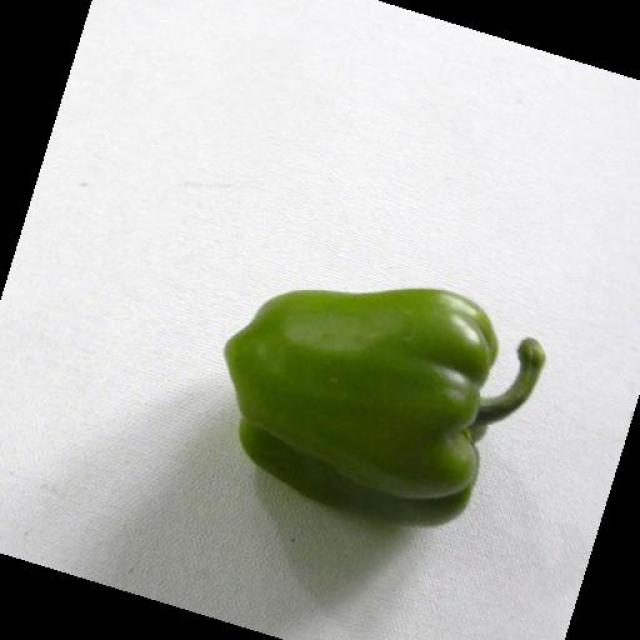Fresh_Capsicum: (239, 273, 508, 521)
